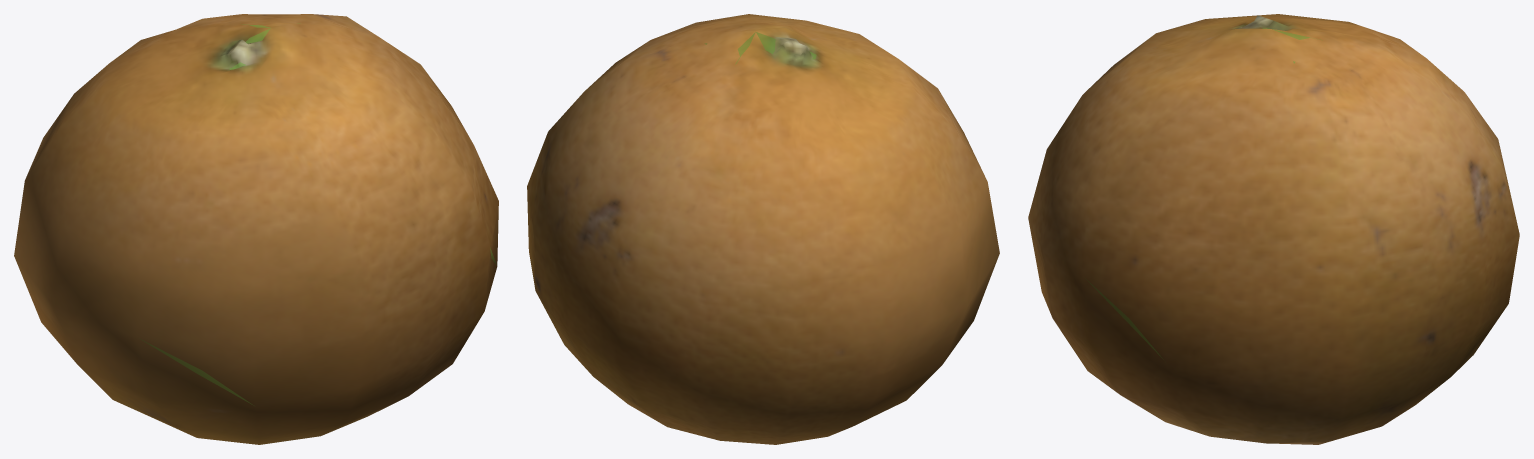
Rendered from pg_Tangerine_01.fbx.
3 views of the same model, side by side, from view 1: azimuth 30°, elevation 25°; view 2: azimuth 150°, elevation 25°; view 3: azimuth 270°, elevation 25° (orthographic). The views are drawn at different scales.
Visible parts, largest first — view 1: pg_Tangerine_01_a_LOD0, pg_Tangerine_01_a_col; view 2: pg_Tangerine_01_a_LOD0; view 3: pg_Tangerine_01_a_LOD0.
Boxes of the visible parts, x1,y1,x2,y2 form: pg_Tangerine_01_a_LOD0: (14,14,498,444); pg_Tangerine_01_a_col: (140,23,496,405); pg_Tangerine_01_a_LOD0: (527,14,999,444); pg_Tangerine_01_a_LOD0: (1028,14,1519,444).
Size of what is drawn, in the model's own units: 6.02 by 5.24 by 6.12.
Materials: 2 (1 with a texture image).
